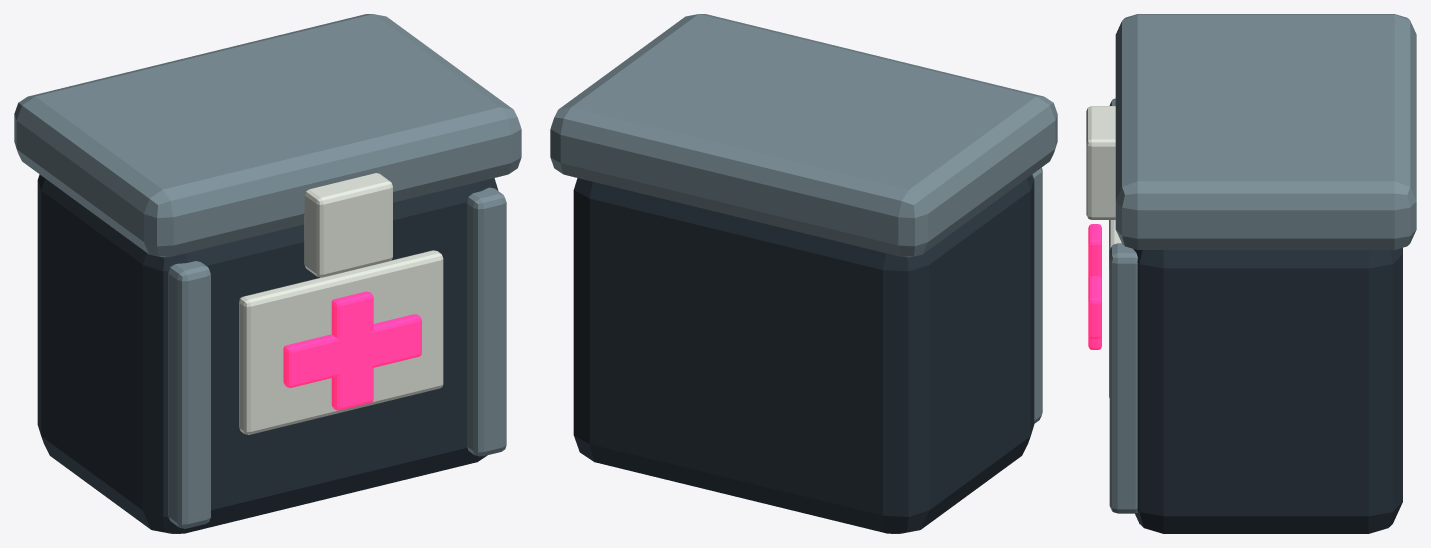
Rendered from repair.glb.
The picture shows the model from 3 angles, left to right: view 1: azimuth 30°, elevation 25°; view 2: azimuth 150°, elevation 25°; view 3: azimuth 270°, elevation 25°; orthographic projection.
Visible parts, largest first — view 1: repair_lid_Skin_Brushed_Titanium, PRP_repair_Skin_Carbon_Ceramic, PRP_repair_Skin_Repair_Ivory, PRP_repair_Skin_Brushed_Titanium, PRP_repair_Skin_Heart_Crimson; view 2: PRP_repair_Skin_Carbon_Ceramic, repair_lid_Skin_Brushed_Titanium, PRP_repair_Skin_Brushed_Titanium; view 3: PRP_repair_Skin_Carbon_Ceramic, repair_lid_Skin_Brushed_Titanium, PRP_repair_Skin_Brushed_Titanium, PRP_repair_Skin_Repair_Ivory, PRP_repair_Skin_Heart_Crimson.
Boxes of the visible parts, box(x1,y1,x2,y2) form: repair_lid_Skin_Brushed_Titanium: box(14, 14, 521, 257); PRP_repair_Skin_Carbon_Ceramic: box(37, 174, 498, 533); PRP_repair_Skin_Repair_Ivory: box(239, 173, 443, 434); PRP_repair_Skin_Brushed_Titanium: box(168, 187, 506, 528); PRP_repair_Skin_Heart_Crimson: box(283, 291, 421, 410); PRP_repair_Skin_Carbon_Ceramic: box(573, 174, 1034, 533); repair_lid_Skin_Brushed_Titanium: box(550, 14, 1057, 257); PRP_repair_Skin_Brushed_Titanium: box(1032, 167, 1042, 423); PRP_repair_Skin_Carbon_Ceramic: box(1133, 248, 1402, 533); repair_lid_Skin_Brushed_Titanium: box(1115, 14, 1416, 249); PRP_repair_Skin_Brushed_Titanium: box(1109, 98, 1137, 513); PRP_repair_Skin_Repair_Ivory: box(1086, 106, 1121, 397); PRP_repair_Skin_Heart_Crimson: box(1088, 224, 1101, 349).
Bounding box in the file's own units: 0.32 × 0.2925 × 0.2415.
